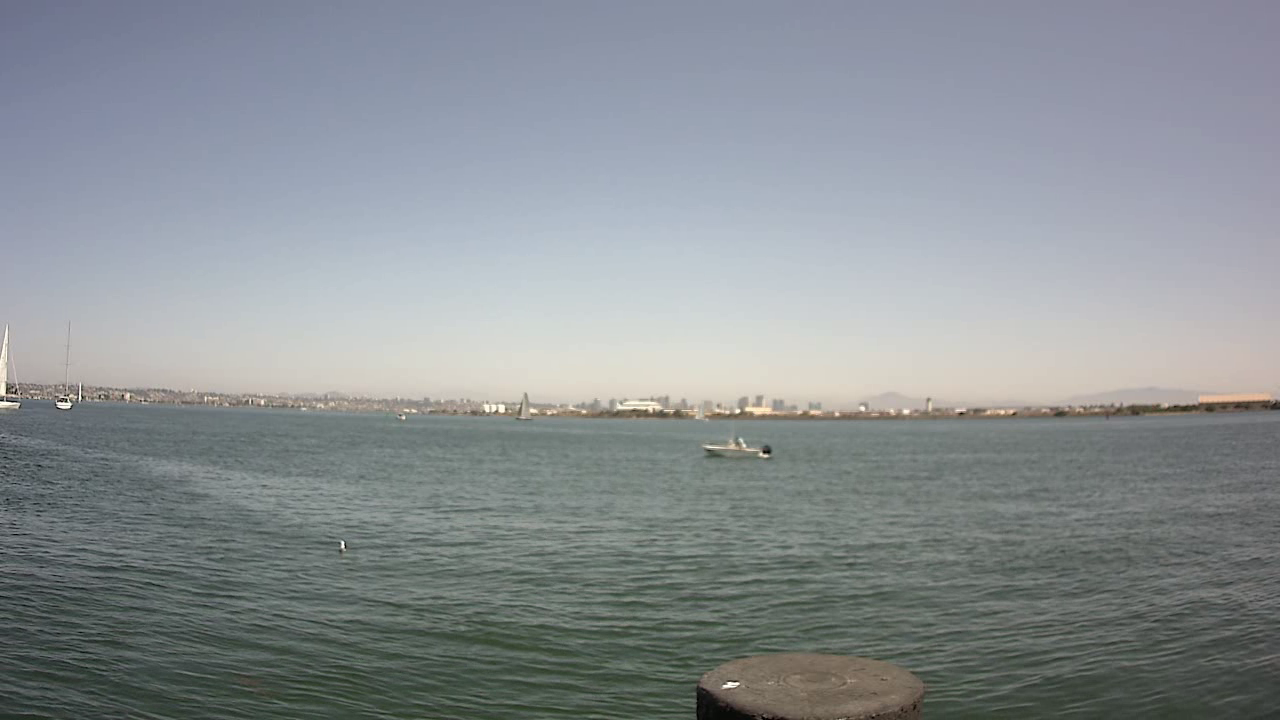target: (689, 419, 783, 468)
